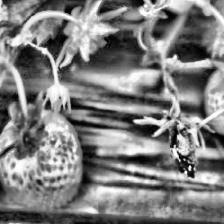Gray Mold: (135, 106, 214, 180)
